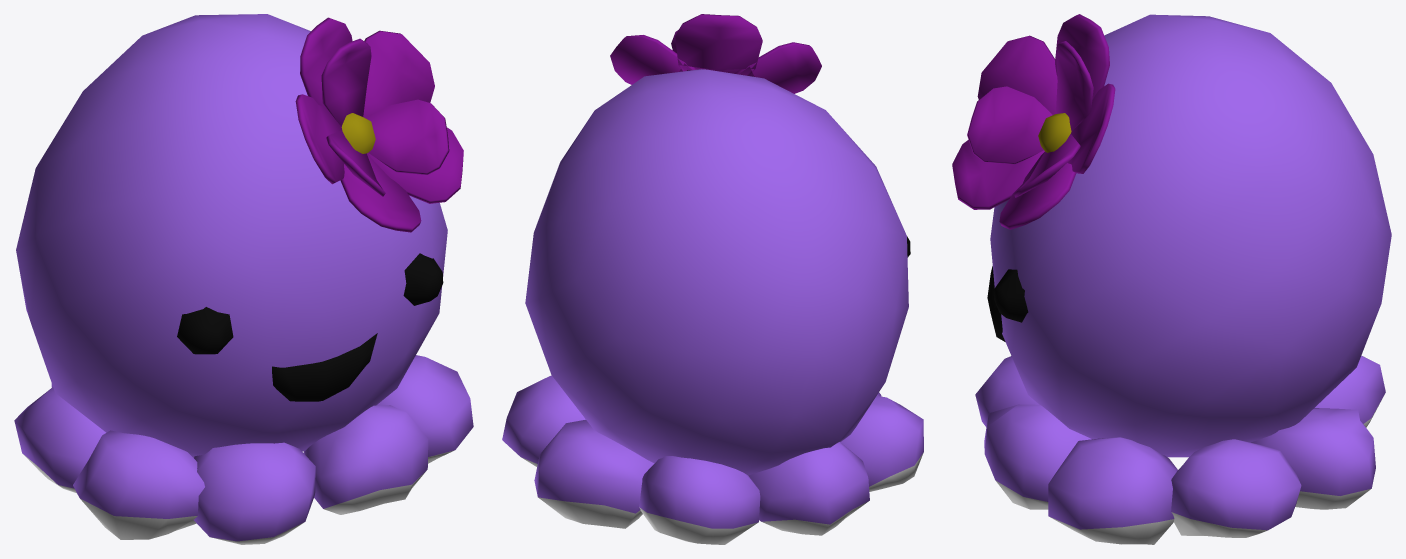
File: hello_ktulhu_01.FBX
3 views of the same model, side by side, from view 1: azimuth 30°, elevation 25°; view 2: azimuth 150°, elevation 25°; view 3: azimuth 270°, elevation 25° (orthographic). The views are drawn at different scales.
Visible parts, largest first — view 1: hello_ktulhu_01; view 2: hello_ktulhu_01; view 3: hello_ktulhu_01.
Boxes of the visible parts, x1,y1,x2,y2 form: hello_ktulhu_01: (14, 14, 473, 544); hello_ktulhu_01: (502, 14, 923, 544); hello_ktulhu_01: (952, 14, 1391, 544).
Size of the model in its own units: 823 by 970 by 806.
